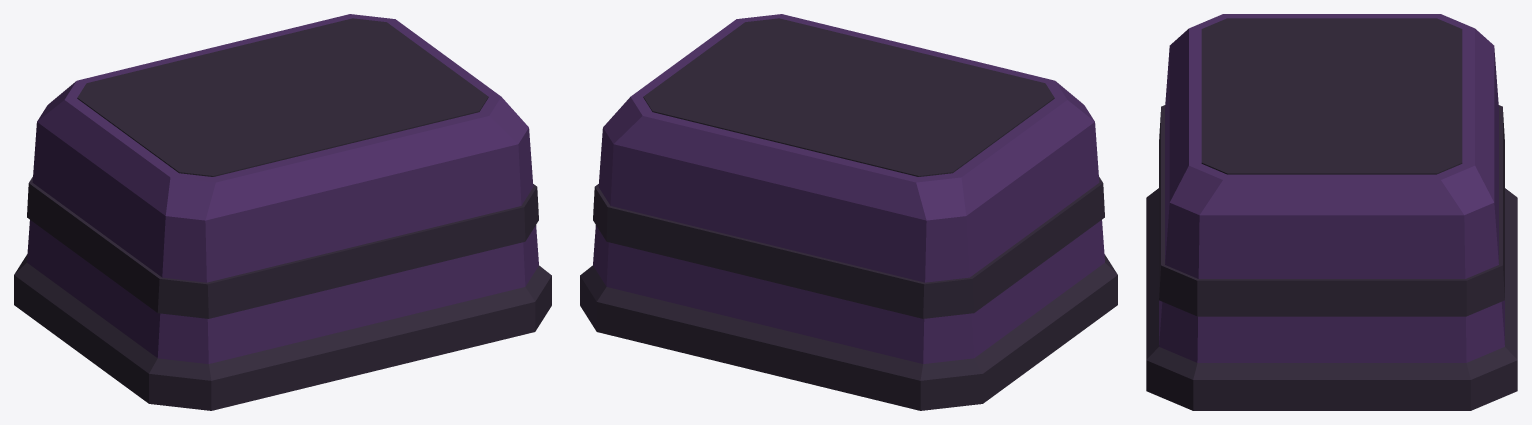
File: SM_SB_Kit_AlienPlinth_200x150x110.fbx
3 views of the same model, side by side, from view 1: azimuth 30°, elevation 25°; view 2: azimuth 150°, elevation 25°; view 3: azimuth 270°, elevation 25° (orthographic). The views are drawn at different scales.
Visible parts, largest first — view 1: SM_SB_Kit_AlienPlinth_200x150x110; view 2: SM_SB_Kit_AlienPlinth_200x150x110; view 3: SM_SB_Kit_AlienPlinth_200x150x110.
Part boxes in pixels (box(x1,y1,x2,y2)): SM_SB_Kit_AlienPlinth_200x150x110: box(14, 14, 551, 410); SM_SB_Kit_AlienPlinth_200x150x110: box(580, 14, 1117, 410); SM_SB_Kit_AlienPlinth_200x150x110: box(1146, 14, 1517, 410).
Bounding box in the file's own units: 224 × 174 × 111.
